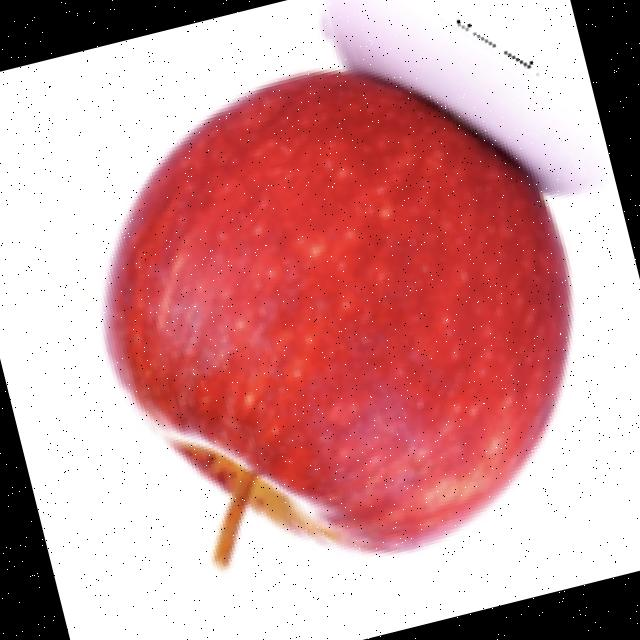apple: (95, 0, 609, 576)
